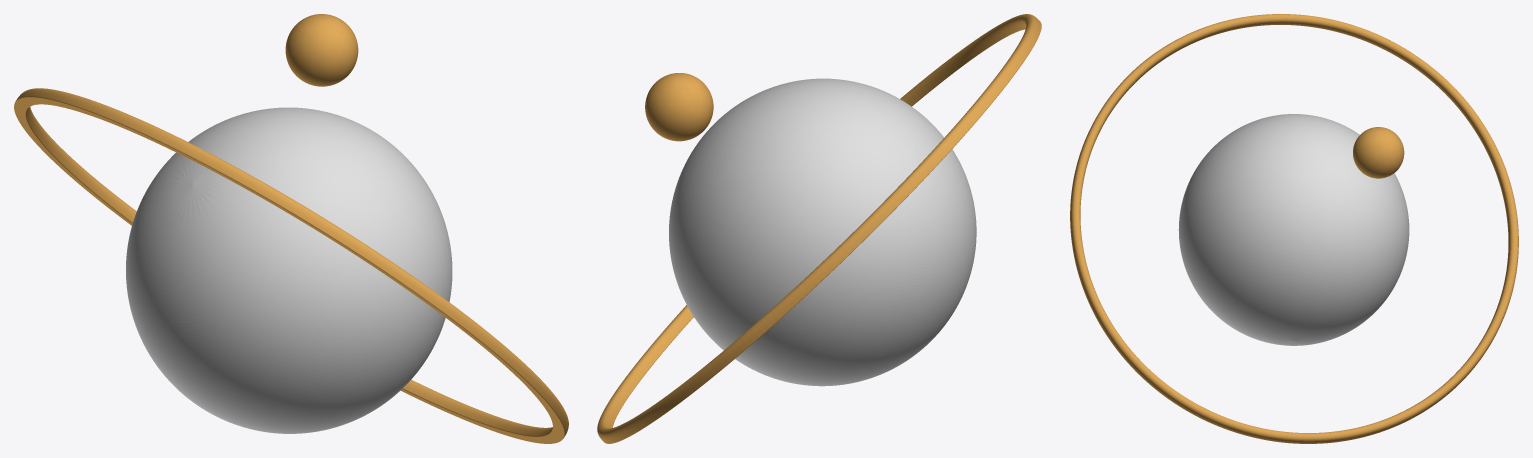
The model's file is Planet.glb.
The picture shows the model from 3 angles, left to right: view 1: azimuth 30°, elevation 25°; view 2: azimuth 150°, elevation 25°; view 3: azimuth 270°, elevation 25°; orthographic projection. The views are drawn at different scales.
Parts seen in each view (by area): view 1: Sphere, Ring, Sphere2; view 2: Sphere, Ring, Sphere2; view 3: Sphere, Ring, Sphere2.
Part boxes in pixels (x1=…): Sphere: x1=126, y1=107, x2=452, y2=433; Ring: x1=14, y1=88, x2=568, y2=443; Sphere2: x1=285, y1=14, x2=358, y2=86; Sphere: x1=669, y1=78, x2=976, y2=386; Ring: x1=597, y1=14, x2=1041, y2=443; Sphere2: x1=645, y1=73, x2=713, y2=141; Sphere: x1=1178, y1=114, x2=1409, y2=345; Ring: x1=1070, y1=14, x2=1518, y2=443; Sphere2: x1=1353, y1=127, x2=1404, y2=178.
Bounding box in the file's own units: 2.83 × 2.83 × 3.84.
2 materials, 1 textured.
